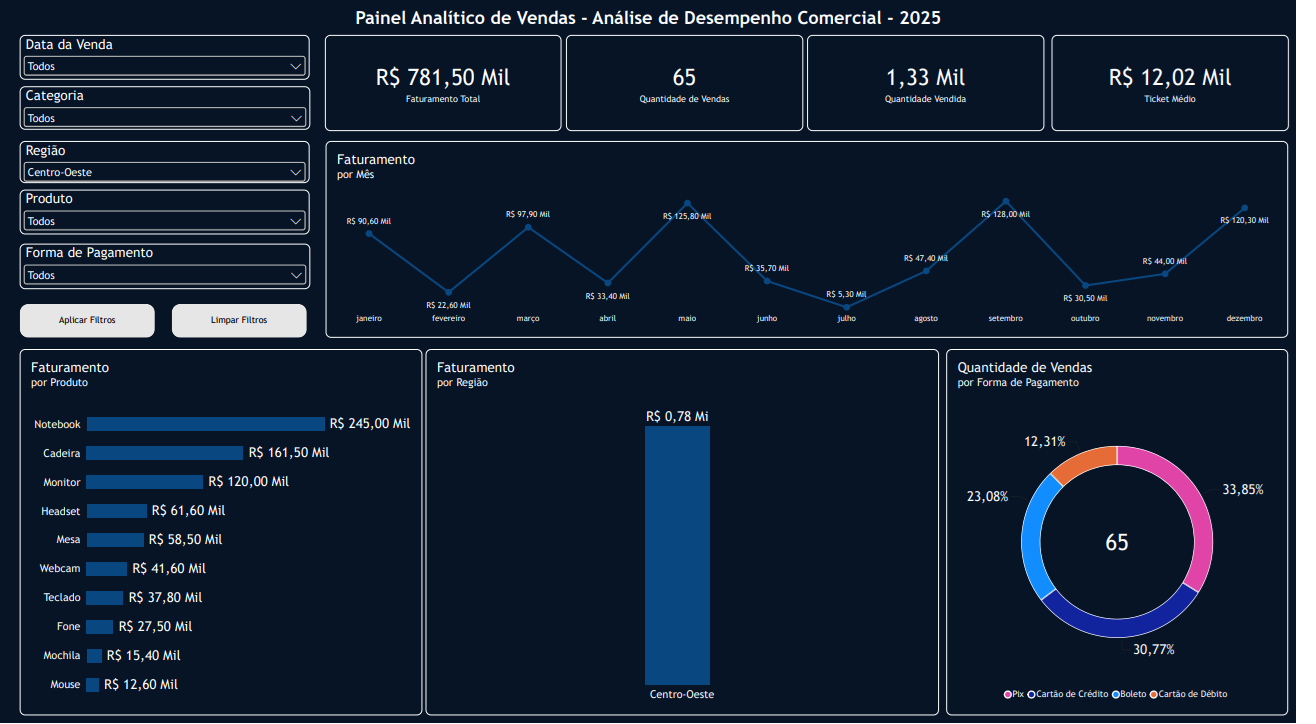

This screenshot's page, from the dashboard's own definition file:
{"tool":"powerbi","page":{"name":"Página 1","canvas":[1920,1080],"ordinal":0},"visuals":[{"type":"card","fields":{"Values":["Medidas.Faturamento_total"]},"box":[481,55.7,350,142.5],"z":0},{"type":"card","fields":{"Values":["Medidas.Quantidade de Vendas"]},"box":[838.2,55.7,351,142.5],"z":1000},{"type":"card","fields":{"Values":["Medidas.Quantidade Vendida"]},"box":[1195.4,55.7,351,142.5],"z":2000},{"type":"card","fields":{"Values":["Medidas.Ticket Médio"]},"box":[1556.6,55.7,351,142.5],"z":3000},{"type":"lineChart","title":"Faturamento","fields":{"Category":["vendas_limpa.Mes_Ano.Variation.Hierarquia de datas.Mês"],"Y":["Medidas.Faturamento Total"]},"box":[481.6,212.6,1425.9,291.9],"z":4000},{"type":"clusteredBarChart","title":"Faturamento","fields":{"Category":["vendas_limpa.Produto"],"Y":["Medidas.Faturamento Total"]},"box":[29.2,521.2,596.2,542],"z":5000},{"type":"clusteredColumnChart","title":"Faturamento","fields":{"Category":["vendas_limpa.Regiao"],"Y":["Medidas.Faturamento Total"]},"box":[629.6,521.2,760.9,542],"z":6000},{"type":"slicer","fields":{"Values":["vendas_limpa.Data_Venda"]},"box":[28.9,55.7,429.4,66.1],"z":7000},{"type":"slicer","fields":{"Values":["vendas_limpa.Categoria"]},"box":[29.5,131.6,430,64.8],"z":8000},{"type":"slicer","fields":{"Values":["vendas_limpa.Regiao"]},"box":[28.9,212.6,429.4,61.9],"z":9000},{"type":"slicer","fields":{"Values":["vendas_limpa.Produto"]},"box":[28.9,284.9,429.4,66.1],"z":10000},{"type":"donutChart","title":"Quantidade de Vendas","fields":{"Category":["vendas_limpa.Forma_Pagamento"],"Y":["Medidas.Quantidade de Vendas"]},"box":[1400.9,521.2,506.6,542],"z":11000},{"type":"textbox","box":[487.7,13.7,944.5,82.5],"z":12000},{"type":"slicer","fields":{"Values":["vendas_limpa.Forma_Pagamento"]},"box":[29.5,365.2,430,66.8],"z":13000},{"type":"actionButton","box":[28.9,454.2,200,50],"z":14000},{"type":"actionButton","box":[253.9,454.2,200.3,49.5],"z":15000}]}

Visuals, with their boxes in screenshot pixels (x1, y1, x2, y2), scaled from the page's 1920x1080 canvas onto the 1316x724 screenshot:
card - Medidas.Faturamento_total: (left=330, top=37, right=570, bottom=133)
card - Medidas.Quantidade de Vendas: (left=575, top=37, right=815, bottom=133)
card - Medidas.Quantidade Vendida: (left=819, top=37, right=1060, bottom=133)
card - Medidas.Ticket Médio: (left=1067, top=37, right=1308, bottom=133)
"Faturamento" lineChart: (left=330, top=143, right=1307, bottom=338)
"Faturamento" clusteredBarChart: (left=20, top=349, right=429, bottom=713)
"Faturamento" clusteredColumnChart: (left=432, top=349, right=953, bottom=713)
slicer - vendas_limpa.Data_Venda: (left=20, top=37, right=314, bottom=82)
slicer - vendas_limpa.Categoria: (left=20, top=88, right=315, bottom=132)
slicer - vendas_limpa.Regiao: (left=20, top=143, right=314, bottom=184)
slicer - vendas_limpa.Produto: (left=20, top=191, right=314, bottom=235)
"Quantidade de Vendas" donutChart: (left=960, top=349, right=1307, bottom=713)
textbox: (left=334, top=9, right=982, bottom=64)
slicer - vendas_limpa.Forma_Pagamento: (left=20, top=245, right=315, bottom=290)
actionButton: (left=20, top=304, right=157, bottom=338)
actionButton: (left=174, top=304, right=311, bottom=338)
